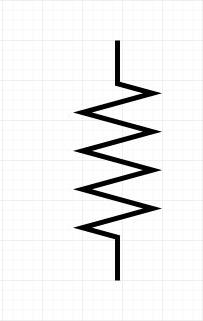resistor: (74, 55, 164, 254)
